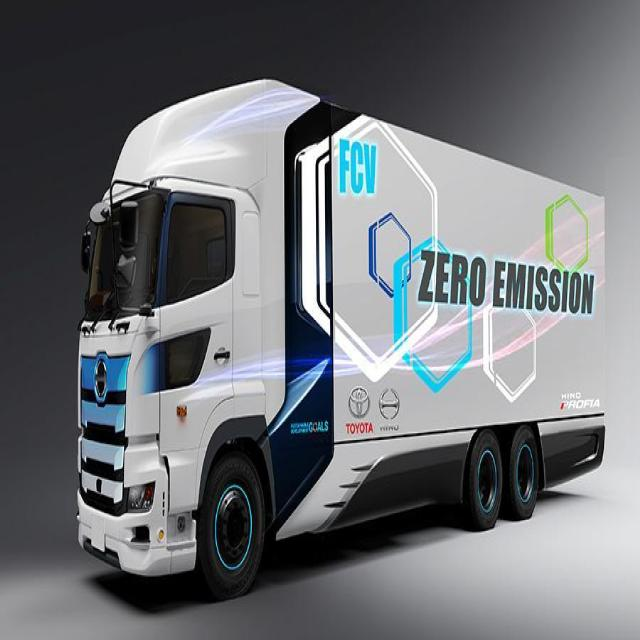truck: (80, 80, 610, 604)
